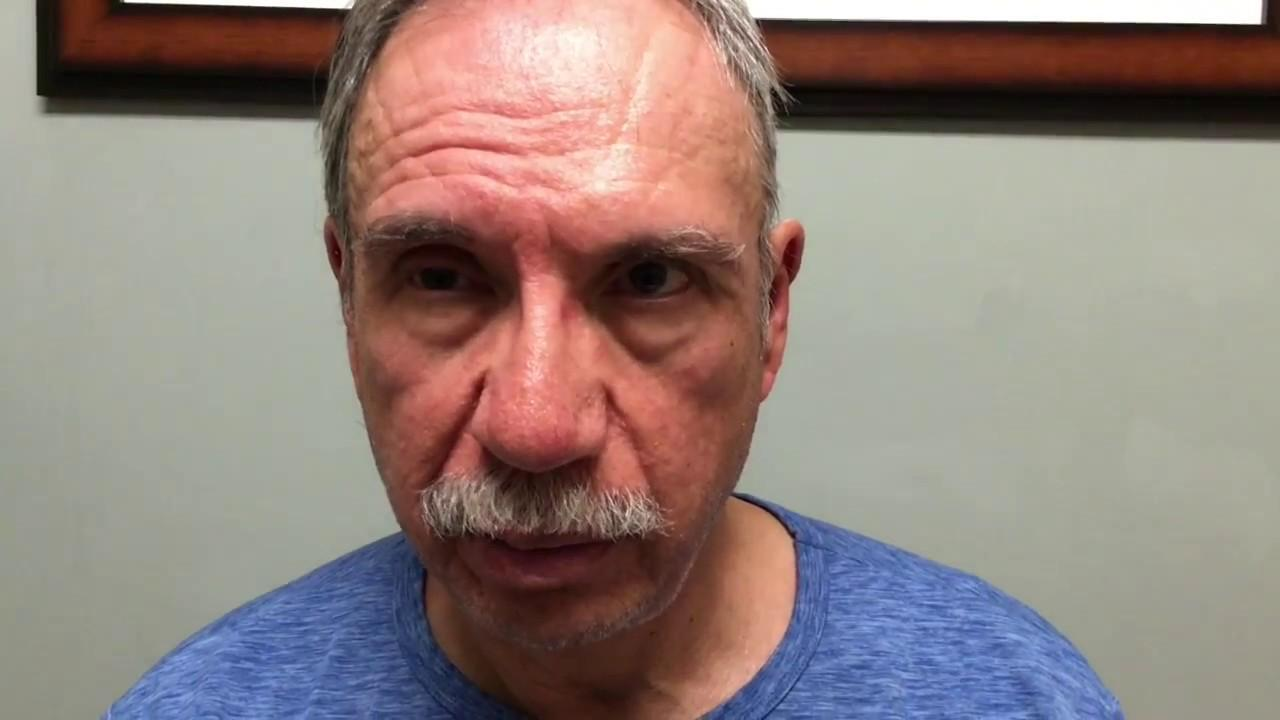strokeEyeWeak: (381, 217, 752, 318)
strokeMouthWeak: (453, 499, 640, 591)
